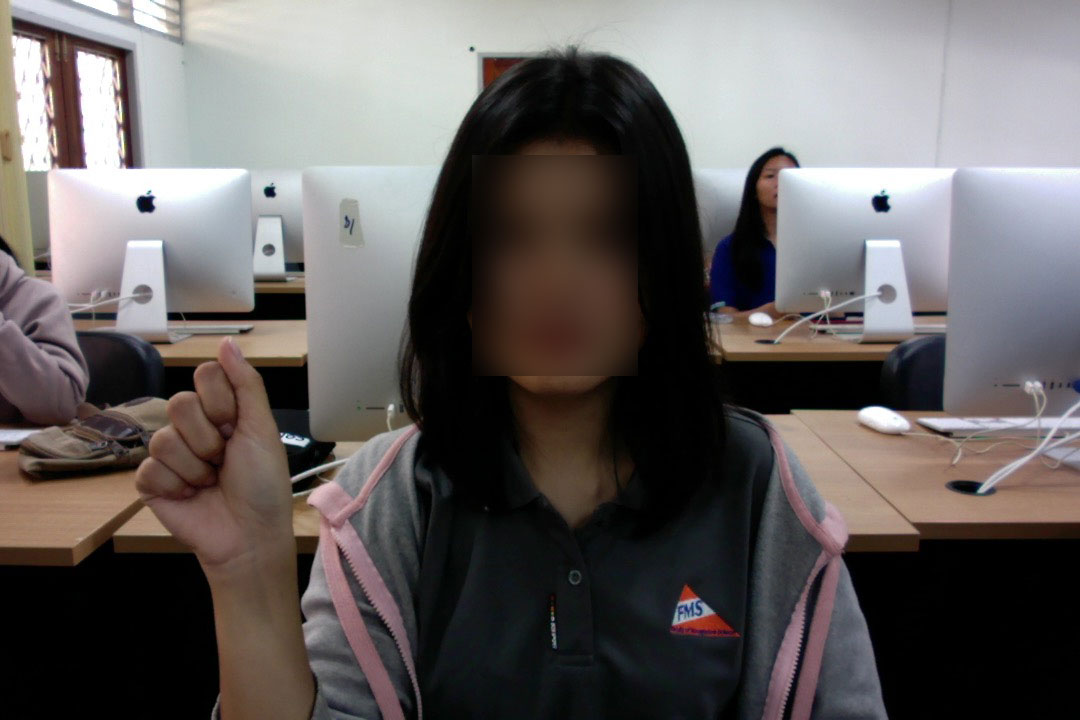or: (124, 336, 312, 557)
